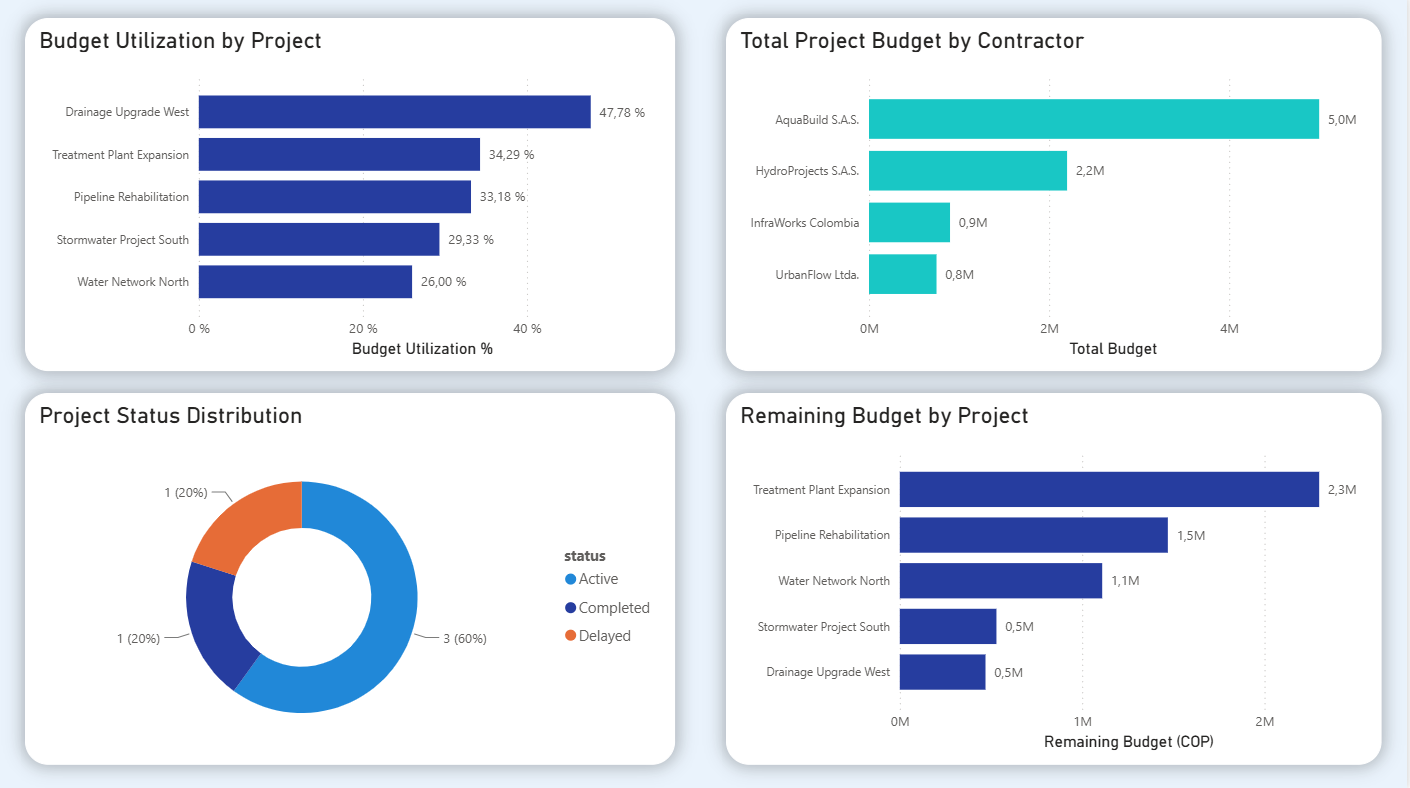

What the dashboard file says about the page in this screenshot:
{"tool":"powerbi","page":{"name":"Project & Contractor Analysis","canvas":[1280,720],"ordinal":1},"visuals":[{"type":"clusteredBarChart","title":"Total Project Budget by Contractor","fields":{"Category":["dim_contractor.contractor_name"],"Y":["fact_project_performance.Total Budget"]},"box":[661.2,18.8,596.2,321.2],"z":0},{"type":"donutChart","title":"Project Status Distribution","fields":{"Category":["fact_project_performance.status"],"Y":["CountNonNull(dim_project.project_id)"]},"box":[23.8,360,591.2,337.5],"z":1000},{"type":"clusteredBarChart","title":"Budget Utilization by Project","fields":{"Category":["dim_project.project_name"],"Y":["fact_project_performance.Budget Utilization %"]},"box":[23.8,18.8,591.2,321.2],"z":2000},{"type":"clusteredBarChart","title":"Remaining Budget by Project","fields":{"Category":["dim_project.project_name"],"Y":["Sum(fact_project_performance.remaining_budget)"]},"box":[661.2,360,596.2,337.5],"z":3000}]}

Visuals, with their boxes in screenshot pixels (x1, y1, x2, y2), scaled from the page's 1280x720 canvas onto the 1410x788 screenshot:
"Total Project Budget by Contractor" clusteredBarChart: <bbox>728, 21, 1385, 372</bbox>
"Project Status Distribution" donutChart: <bbox>26, 394, 677, 763</bbox>
"Budget Utilization by Project" clusteredBarChart: <bbox>26, 21, 677, 372</bbox>
"Remaining Budget by Project" clusteredBarChart: <bbox>728, 394, 1385, 763</bbox>
